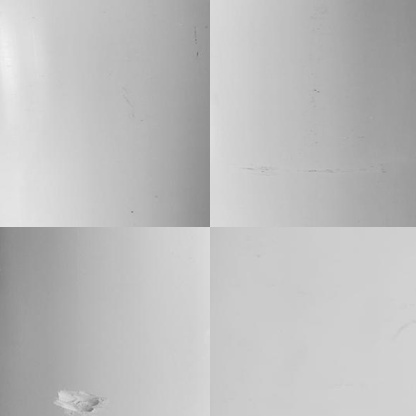sunshang: (50, 385, 110, 415)
